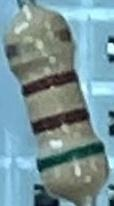Brown: (31, 103, 90, 137), (19, 69, 81, 100)
Green: (34, 139, 104, 175)
Side-Silver: (4, 27, 73, 58)
